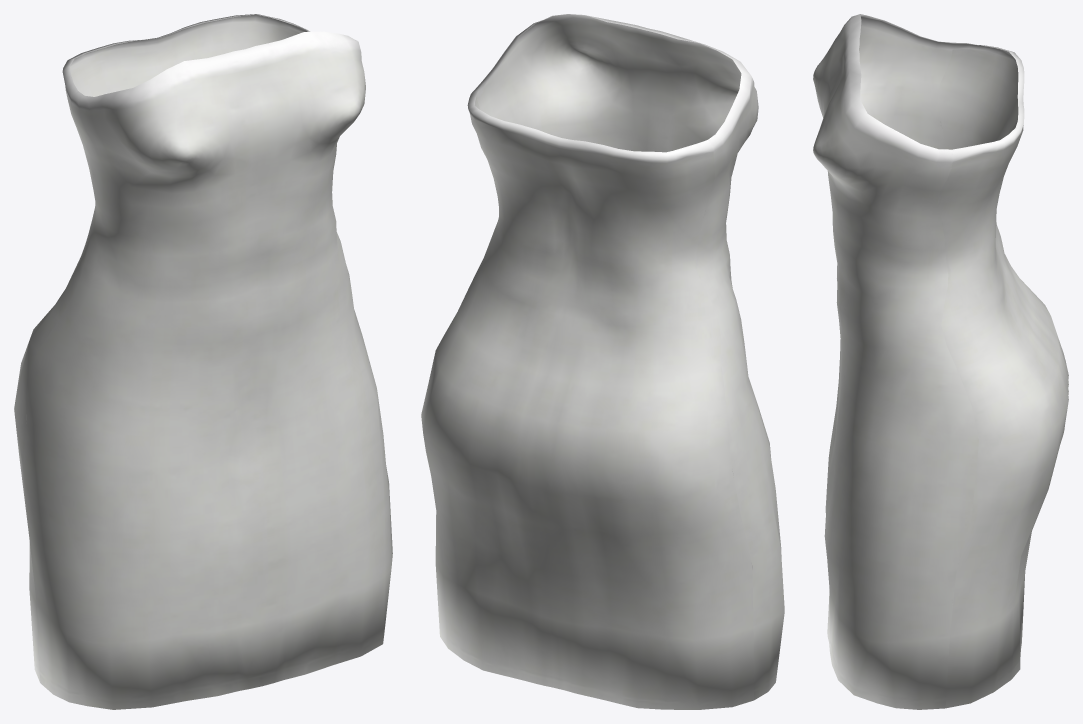
The model's file is punkduck-tube-dress.glb.
3 renders of one model, left to right at view 1: azimuth 30°, elevation 25°; view 2: azimuth 150°, elevation 25°; view 3: azimuth 270°, elevation 25°, orthographic. The views are drawn at different scales.
Parts seen in each view (by area): view 1: Human.punkduck_tube_dress; view 2: Human.punkduck_tube_dress; view 3: Human.punkduck_tube_dress.
Boxes of the visible parts, left/top/right/bottom form: Human.punkduck_tube_dress: left=14, top=14, right=392, bottom=709; Human.punkduck_tube_dress: left=421, top=14, right=784, bottom=709; Human.punkduck_tube_dress: left=813, top=14, right=1068, bottom=709.
Size of the model in its own units: 0.3975 by 0.7038 by 0.2773.
Materials: 1 (1 with a texture image).
